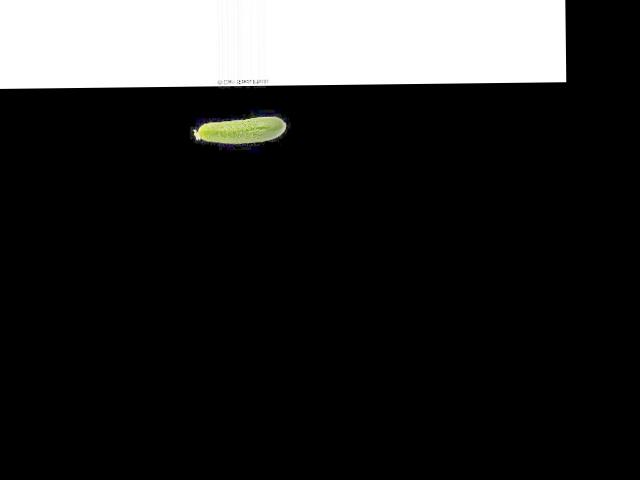cucumber: (193, 116, 286, 144)
